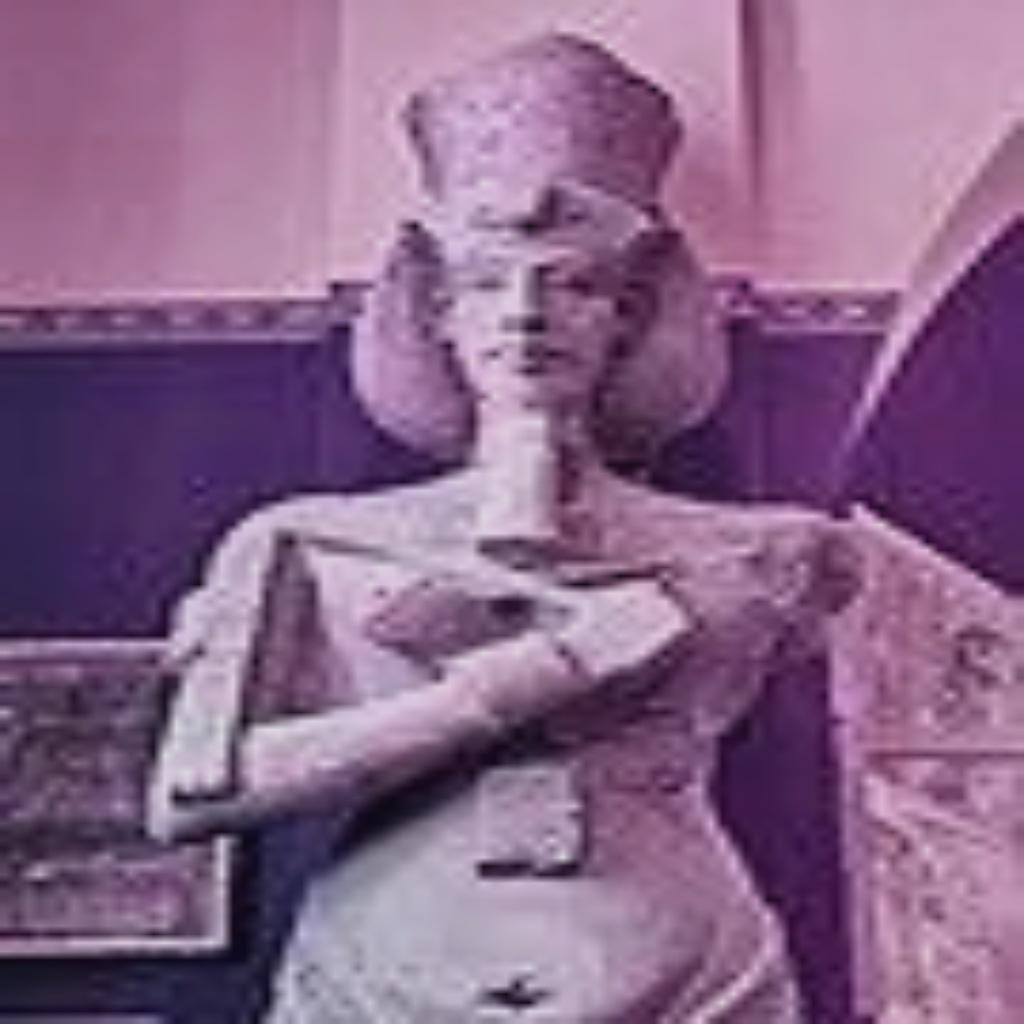Akhenaten: (136, 18, 876, 1016)
